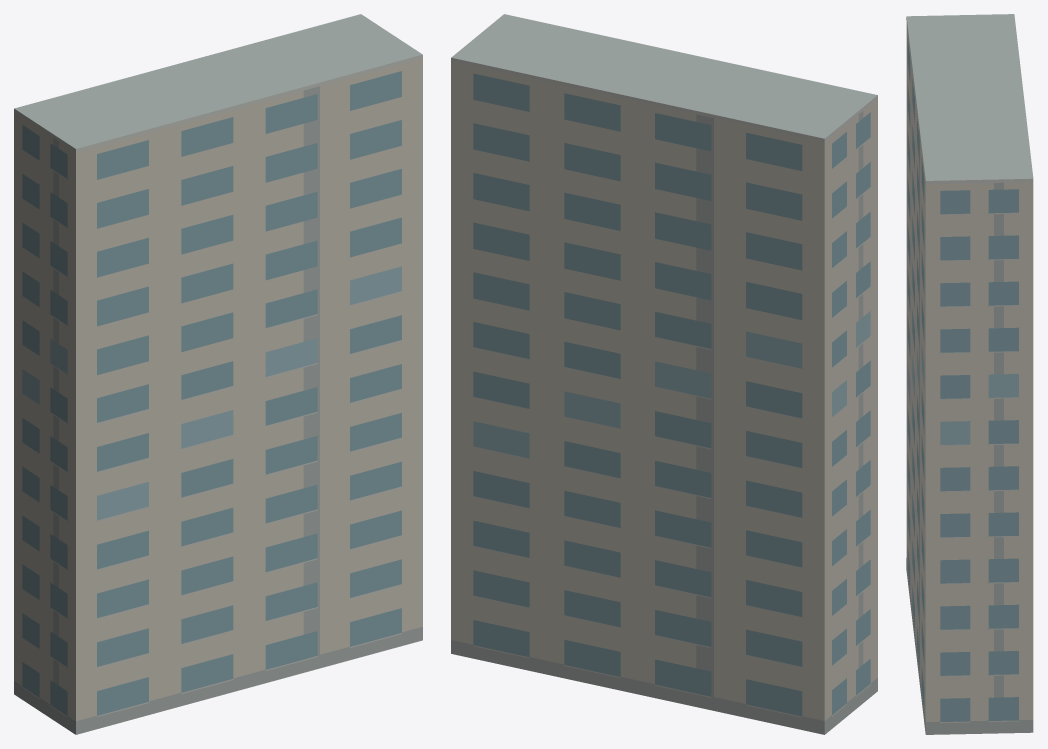
File: residential-1db796b4-a623-4743-8d8d-b9b9c2afab1c.glb
3 views of the same model, side by side, from view 1: azimuth 30°, elevation 25°; view 2: azimuth 150°, elevation 25°; view 3: azimuth 270°, elevation 25° (orthographic). The views are drawn at different scales.
Visible parts, largest first — view 1: residential-1db796b4-a623-4743-8d8d-b9b9c2afab1c.tmp; view 2: residential-1db796b4-a623-4743-8d8d-b9b9c2afab1c.tmp; view 3: residential-1db796b4-a623-4743-8d8d-b9b9c2afab1c.tmp.
Part boxes in pixels (x1=…): residential-1db796b4-a623-4743-8d8d-b9b9c2afab1c.tmp: x1=14, y1=14, x2=422, y2=734; residential-1db796b4-a623-4743-8d8d-b9b9c2afab1c.tmp: x1=451, y1=14, x2=877, y2=734; residential-1db796b4-a623-4743-8d8d-b9b9c2afab1c.tmp: x1=906, y1=14, x2=1033, y2=734.
Size of the model in its own units: 25.86 by 40 by 8.32.
